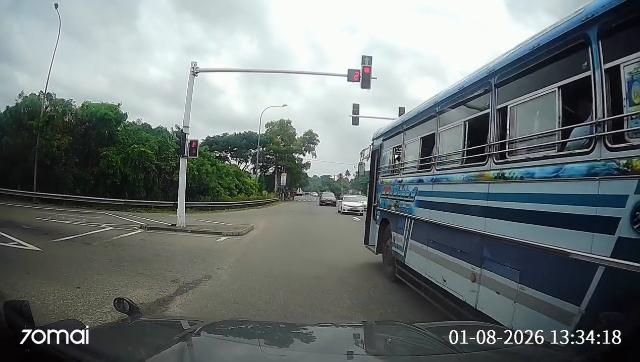traffic light red: (353, 57, 379, 95)
